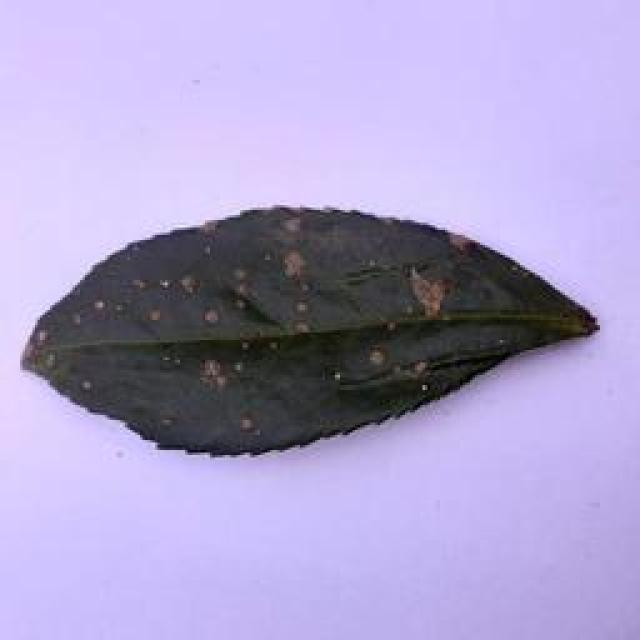Algal Leaf Spot: (22, 200, 607, 458)
